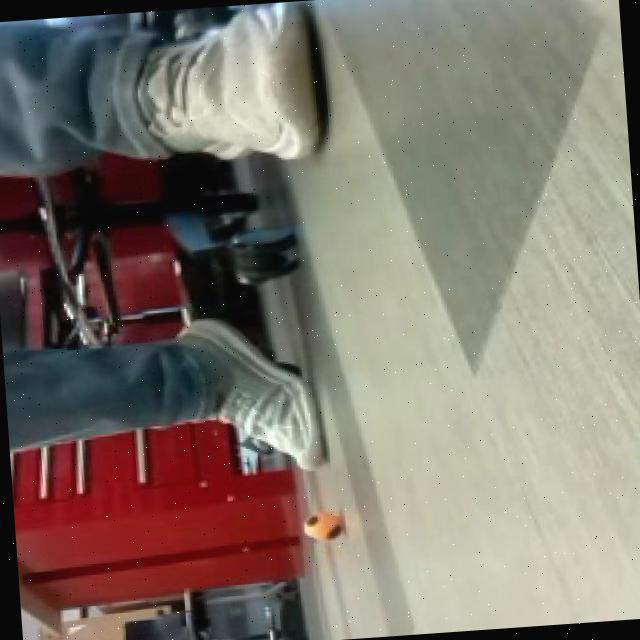ping-pong-ball: (298, 510, 348, 544)
